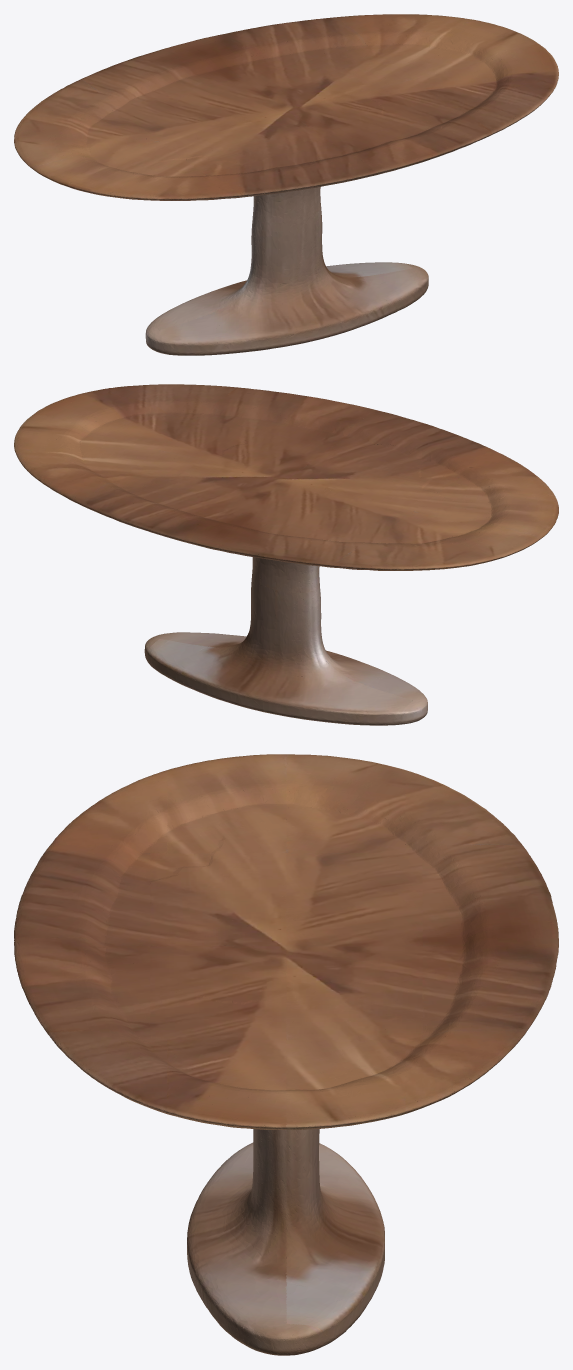
The model's file is stol.glb.
3 renders of one model, top to bottom at view 1: azimuth 30°, elevation 25°; view 2: azimuth 150°, elevation 25°; view 3: azimuth 270°, elevation 25°, orthographic. The views are drawn at different scales.
Parts seen in each view (by area): view 1: aiprintgen_xcn9.obj; view 2: aiprintgen_xcn9.obj; view 3: aiprintgen_xcn9.obj.
Part boxes in pixels (box(x1,y1,x2,y2)): aiprintgen_xcn9.obj: box(14, 14, 558, 355); aiprintgen_xcn9.obj: box(14, 384, 558, 725); aiprintgen_xcn9.obj: box(14, 754, 558, 1355).
Bounding box in the file's own units: 1.96 × 0.7863 × 1.21.
Materials: 1 (1 with a texture image).
